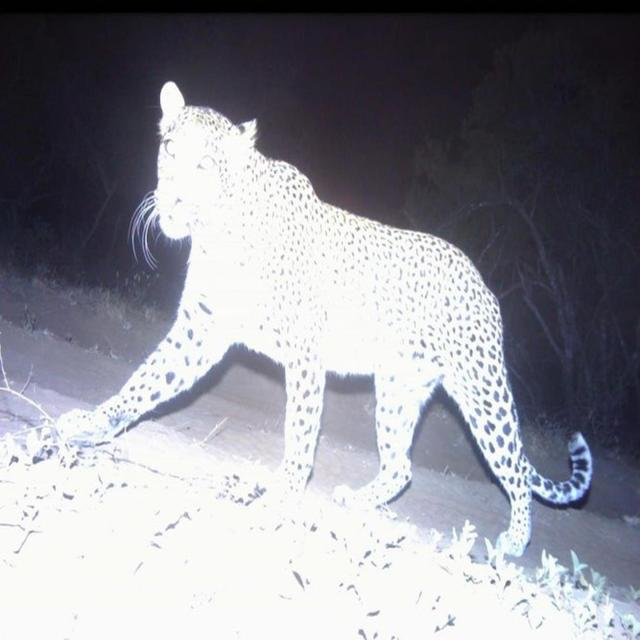Leopard: (77, 125, 576, 545)
